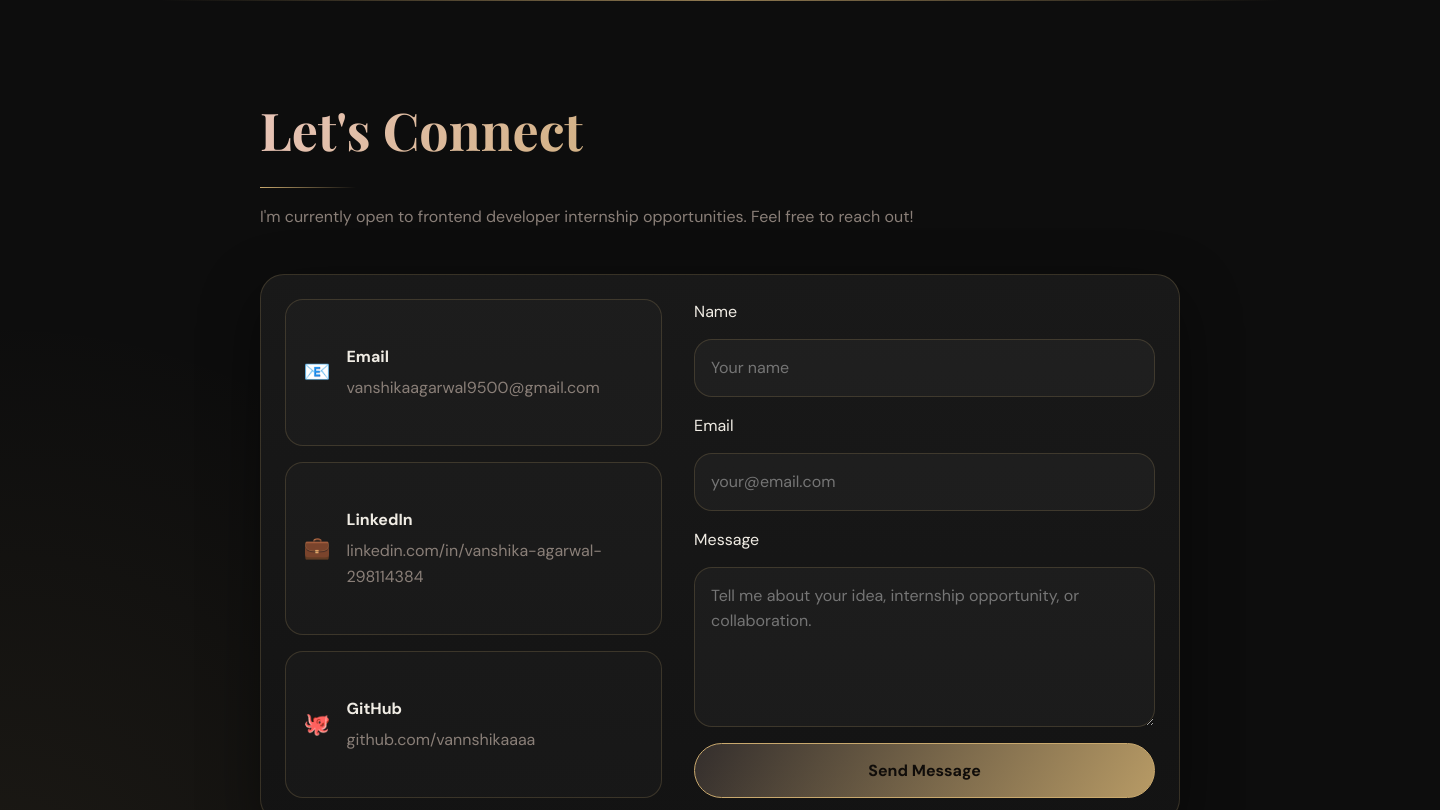
Test: Contact › shows success message after valid submission
The image size is (1440, 810).
Step 1. Type "Test" into the field with placeholder "Your name" → (925, 368), box [694,339,1155,397]
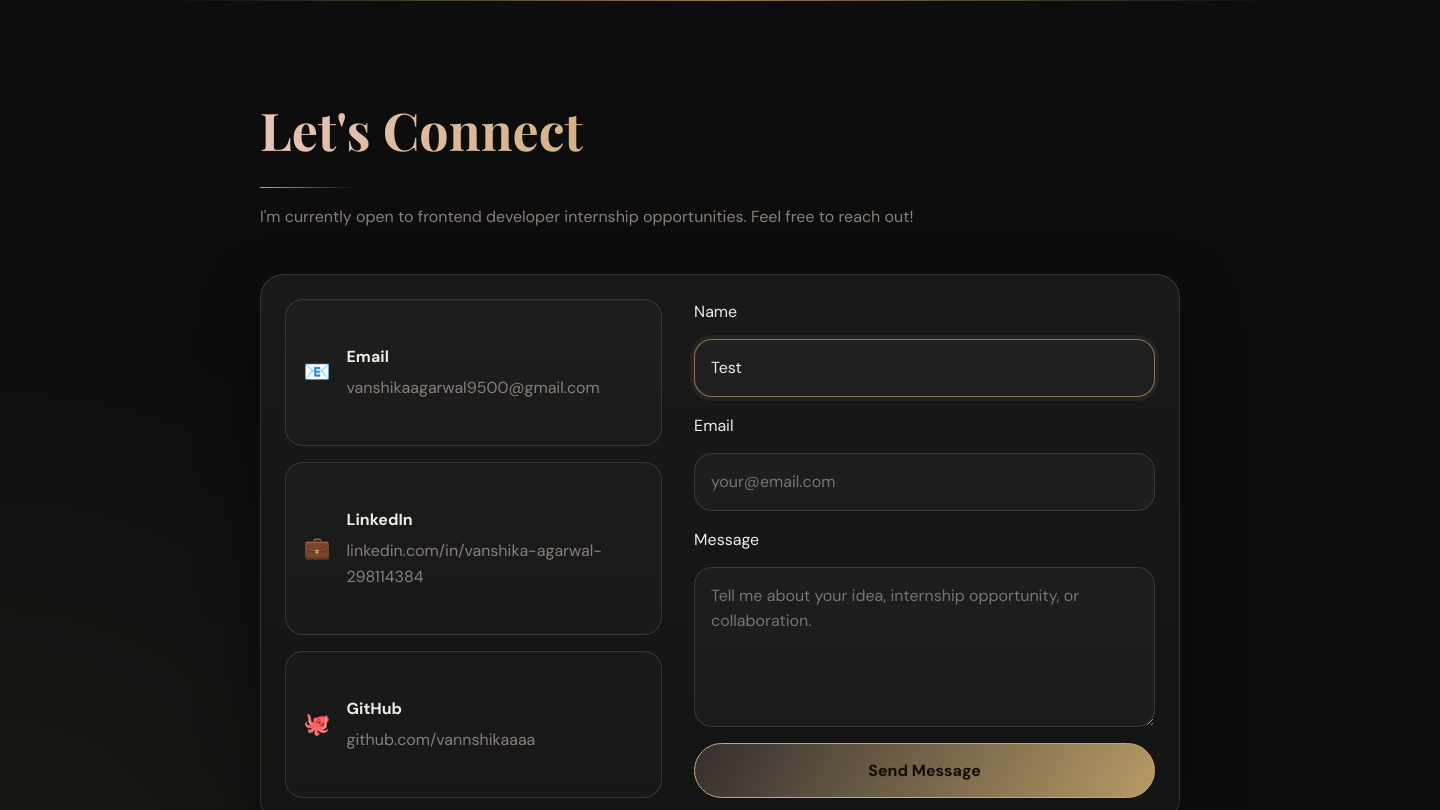
Step 2. Type "test@example.com" into the field with placeholder "your@email.com" → (925, 482), box [694,453,1155,511]
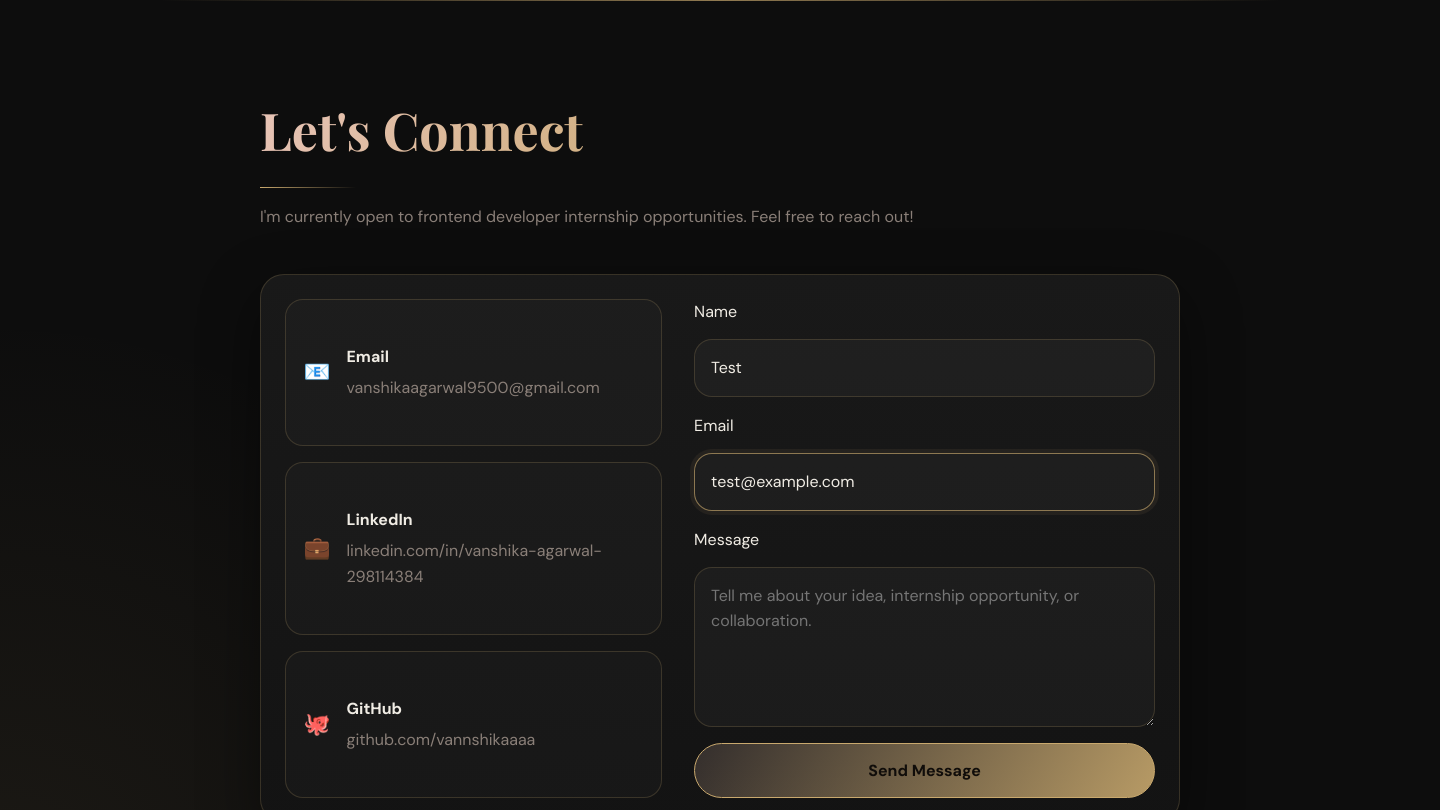
Step 3. Type "Hello" into the text box with placeholder "Tell me about your idea" → (925, 647), box [694,567,1155,727]
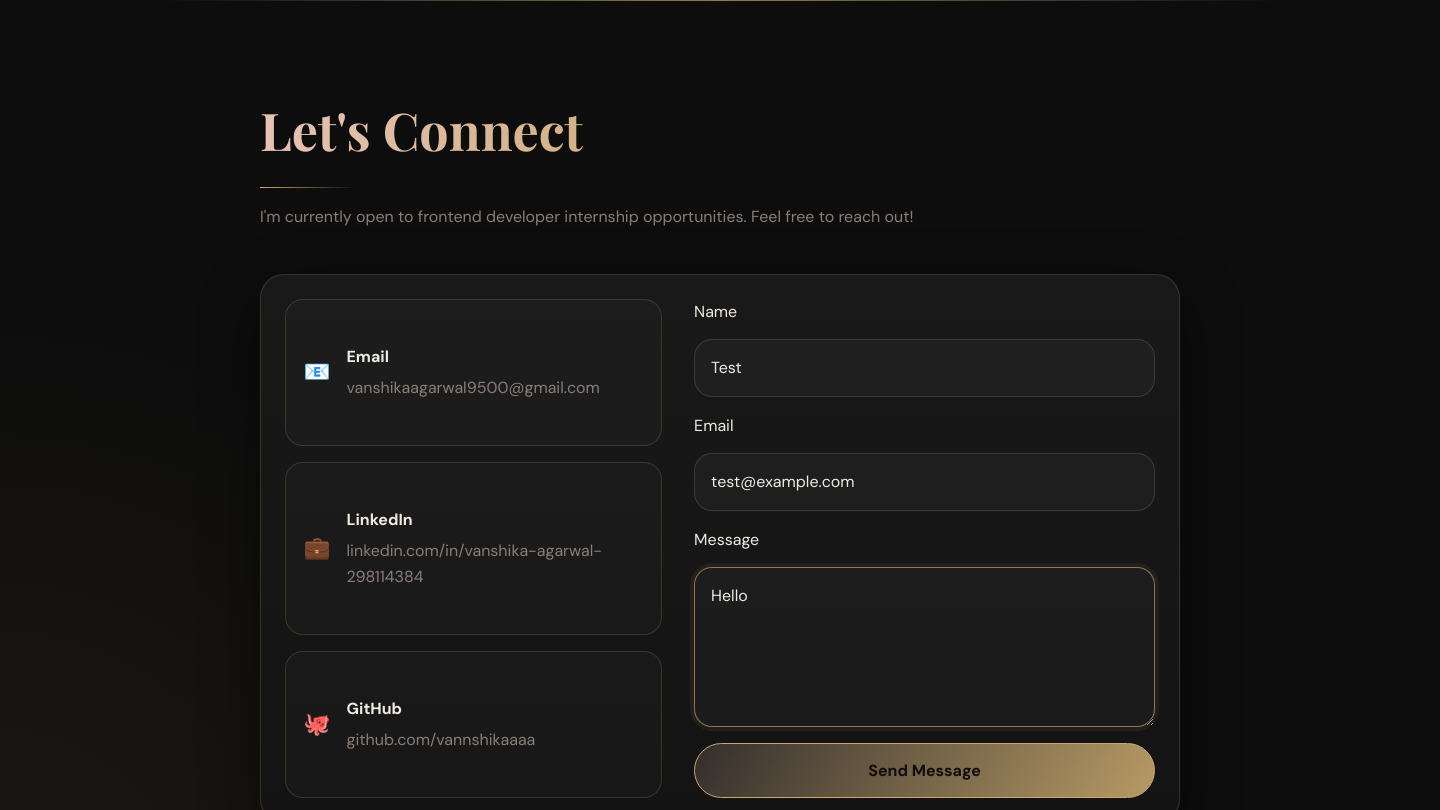
Step 4. Click the button "Send Message" → (925, 770), box [694,743,1155,798]
(page scrolled)
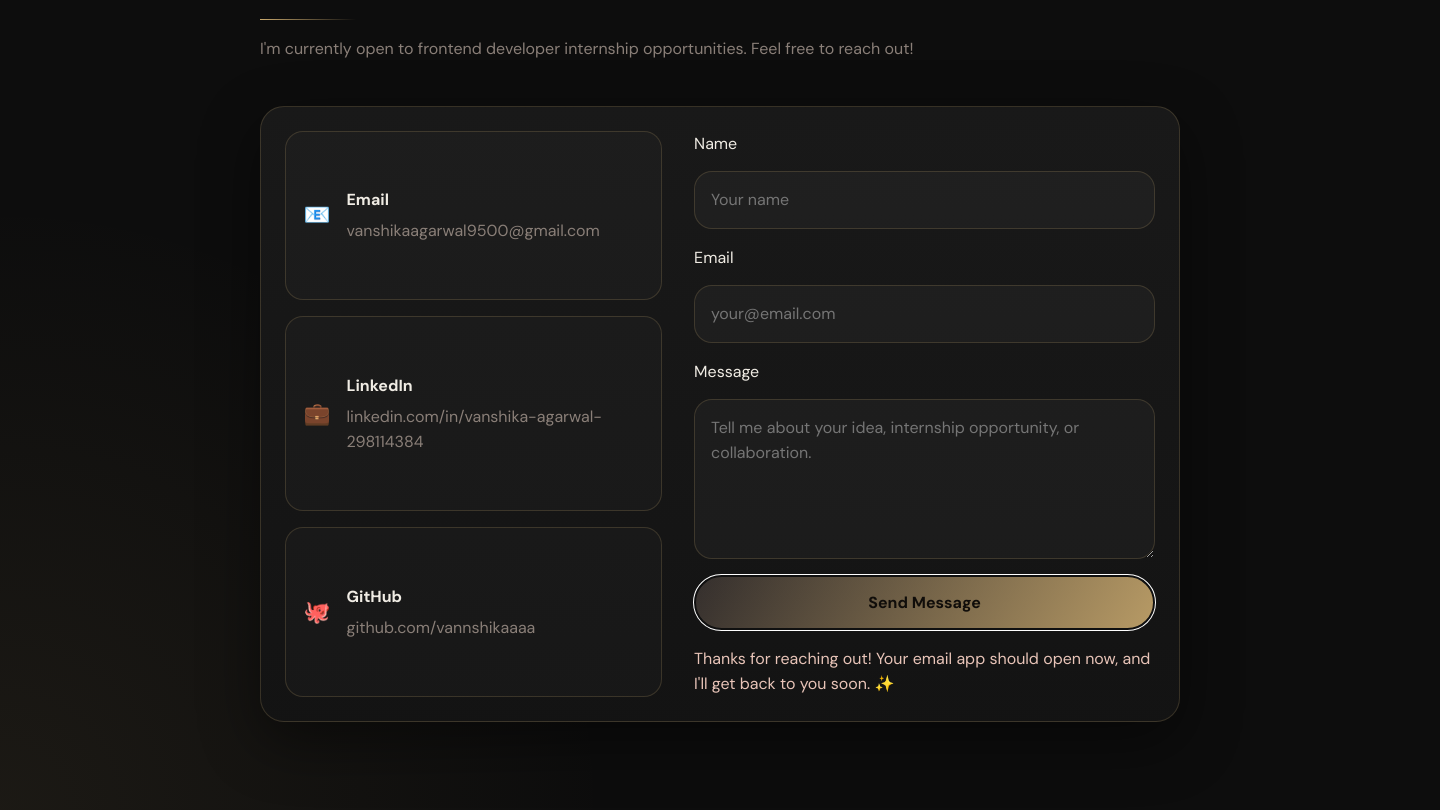
Check: the text "Thanks for reaching out" is shown, box [694,648,1150,694]
